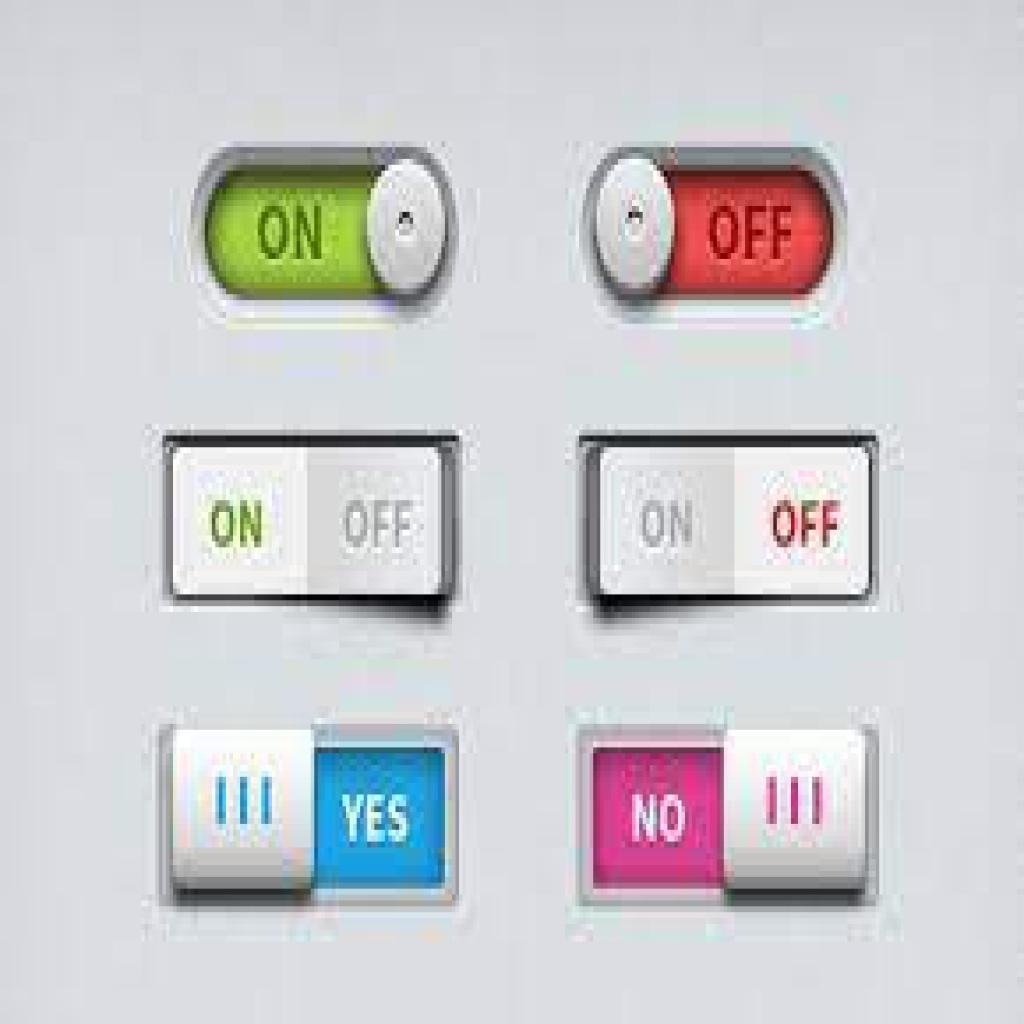switch: (574, 723, 878, 906), (156, 724, 459, 906), (184, 142, 463, 325), (580, 145, 854, 321)
